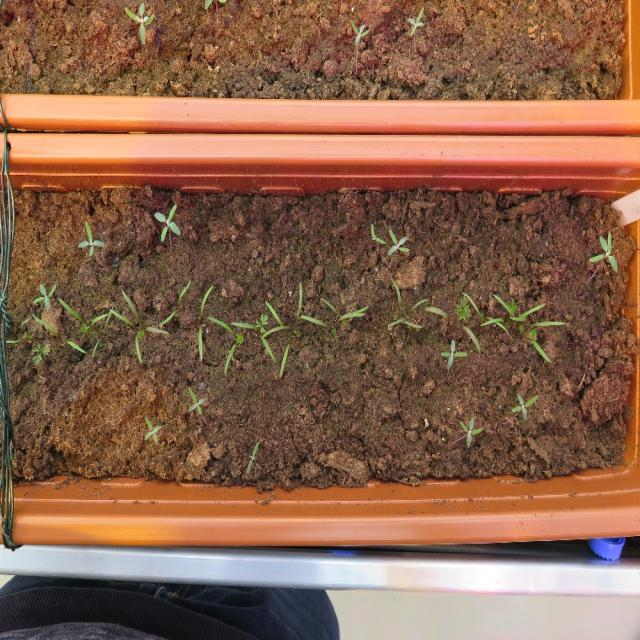weed: (586, 229, 618, 273), (152, 202, 182, 242), (76, 218, 104, 256), (440, 336, 467, 370), (459, 412, 484, 447), (511, 391, 538, 420), (32, 280, 57, 309), (405, 3, 424, 37), (387, 227, 410, 255), (349, 18, 370, 47), (143, 414, 162, 444), (187, 385, 205, 415), (246, 439, 259, 475), (370, 220, 386, 245)
